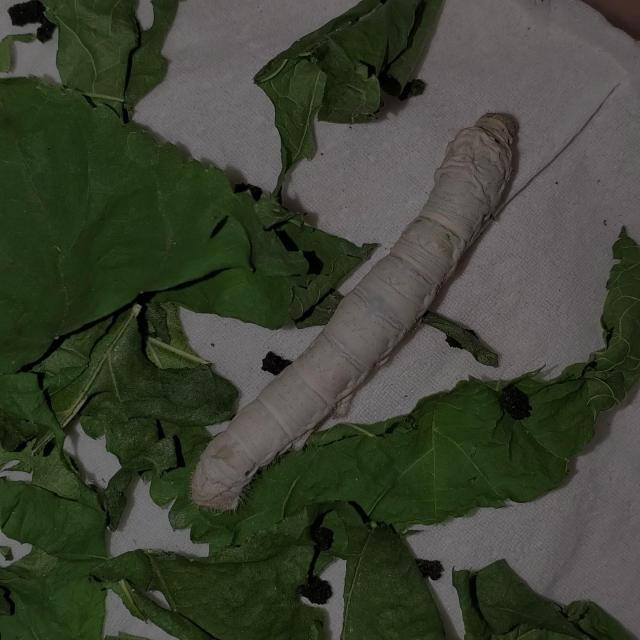Healthy: (165, 76, 552, 528)
